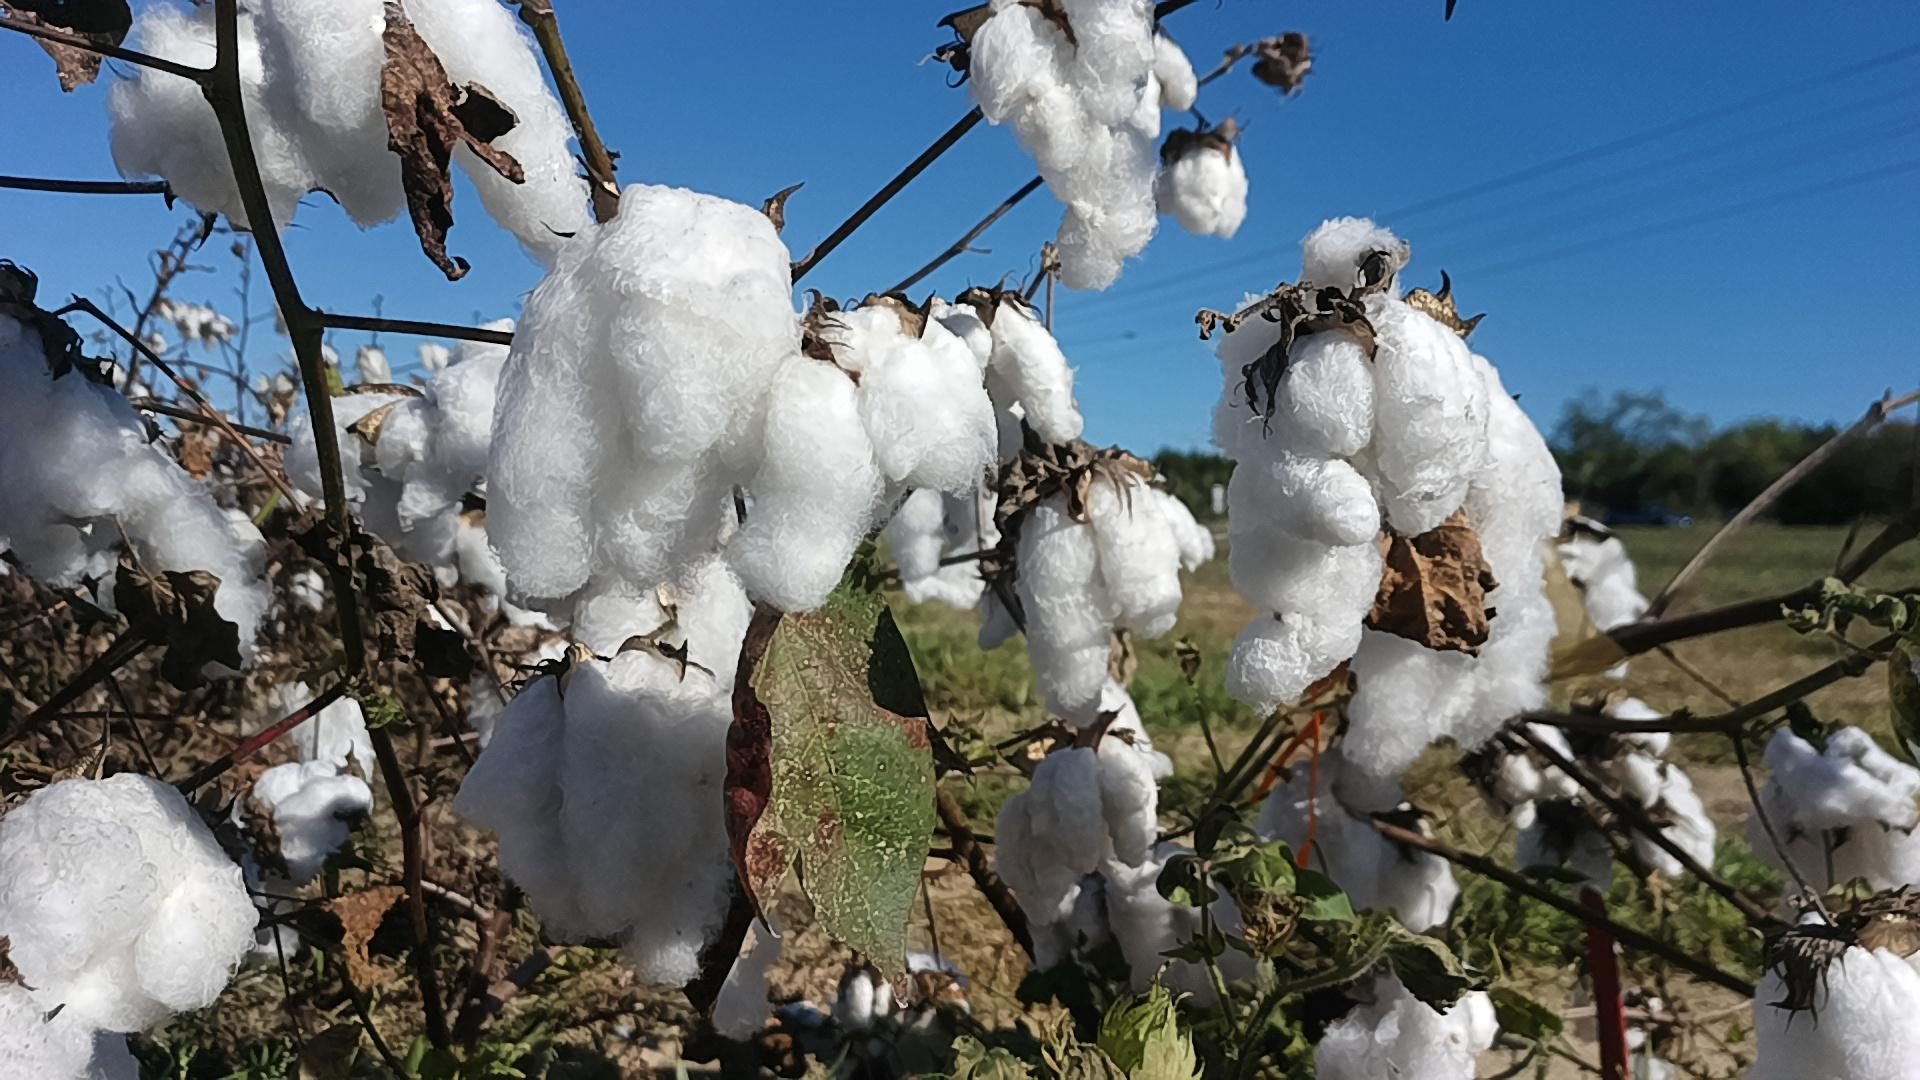cotton_ready: (1221, 353, 1568, 765), (488, 183, 803, 597), (1212, 218, 1484, 615), (452, 653, 738, 990), (257, 0, 603, 265), (720, 301, 998, 613), (0, 770, 258, 1031), (108, 0, 315, 245), (1015, 465, 1208, 727), (0, 265, 128, 583), (128, 435, 295, 661), (1250, 766, 1458, 936), (353, 356, 513, 571), (1738, 720, 1920, 903), (1034, 840, 1246, 997), (969, 0, 1153, 167), (1750, 909, 1920, 1080), (1026, 725, 1153, 907), (568, 560, 760, 671), (932, 301, 1083, 439), (1309, 973, 1498, 1080), (1056, 128, 1159, 294), (707, 911, 810, 1051), (252, 758, 371, 878), (0, 985, 142, 1080), (1564, 521, 1648, 679), (290, 390, 406, 501), (255, 680, 378, 781), (1615, 756, 1716, 878), (841, 948, 964, 1046), (1156, 142, 1249, 244), (1495, 728, 1582, 829), (1096, 680, 1175, 783), (1607, 695, 1671, 775)
